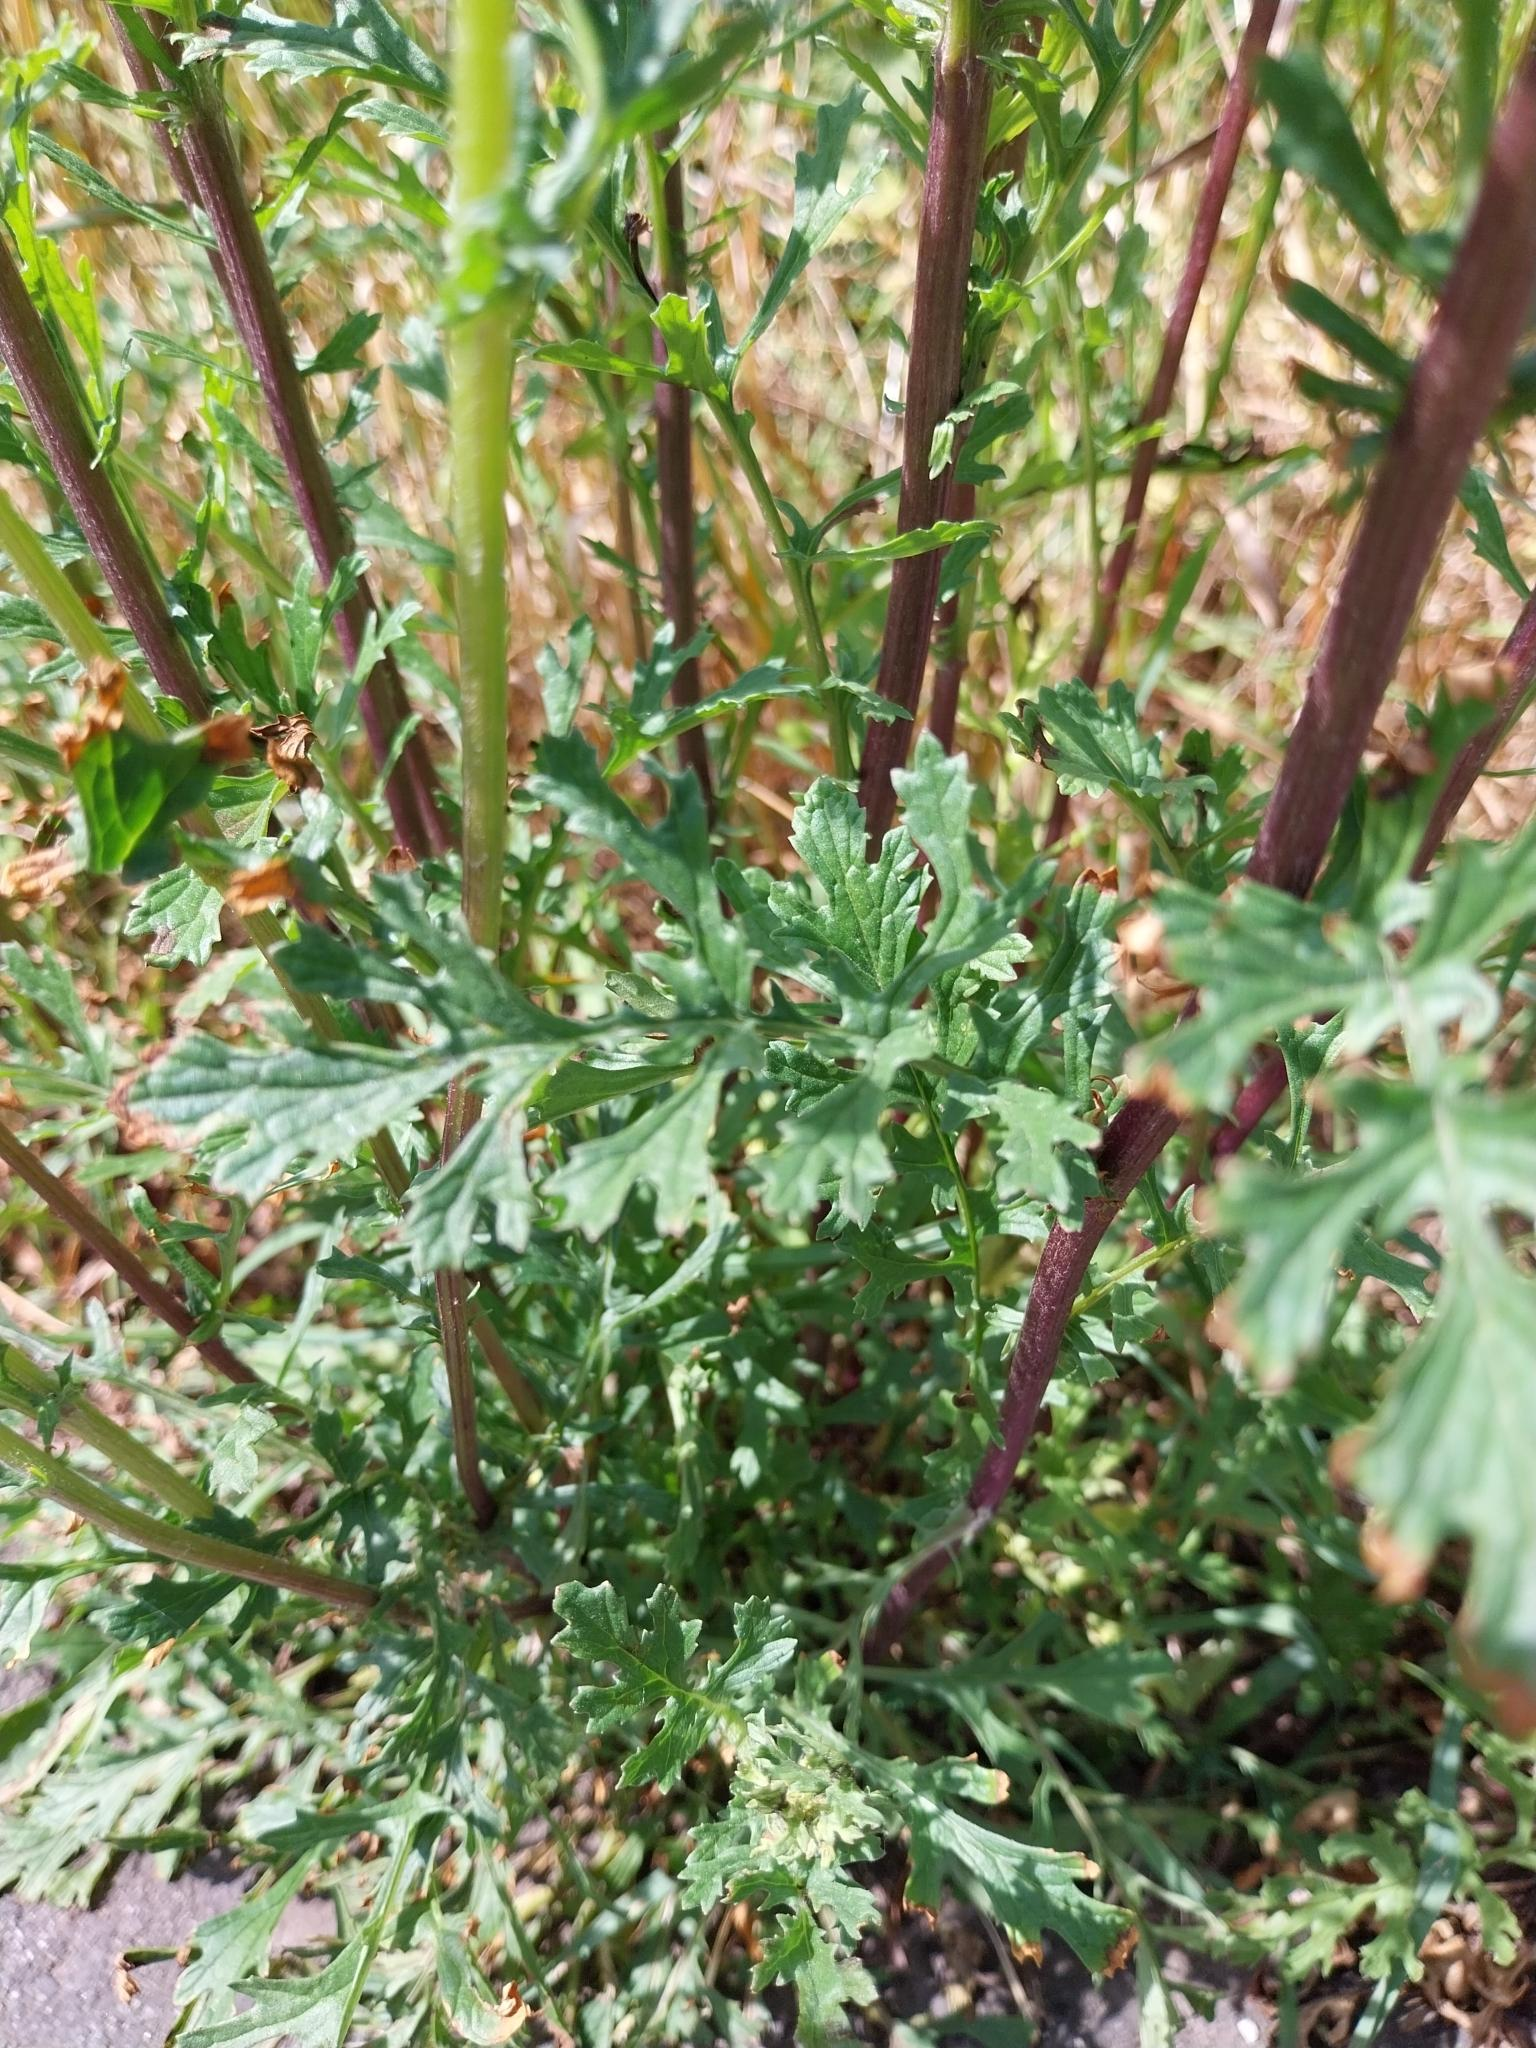Jacobaea vulgaris: (50, 634, 1536, 1734)
